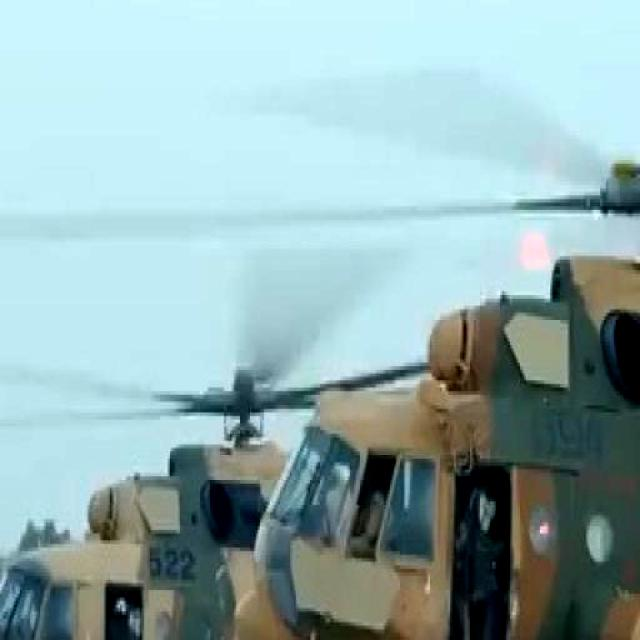drone: (266, 131, 640, 640), (0, 326, 349, 640)
